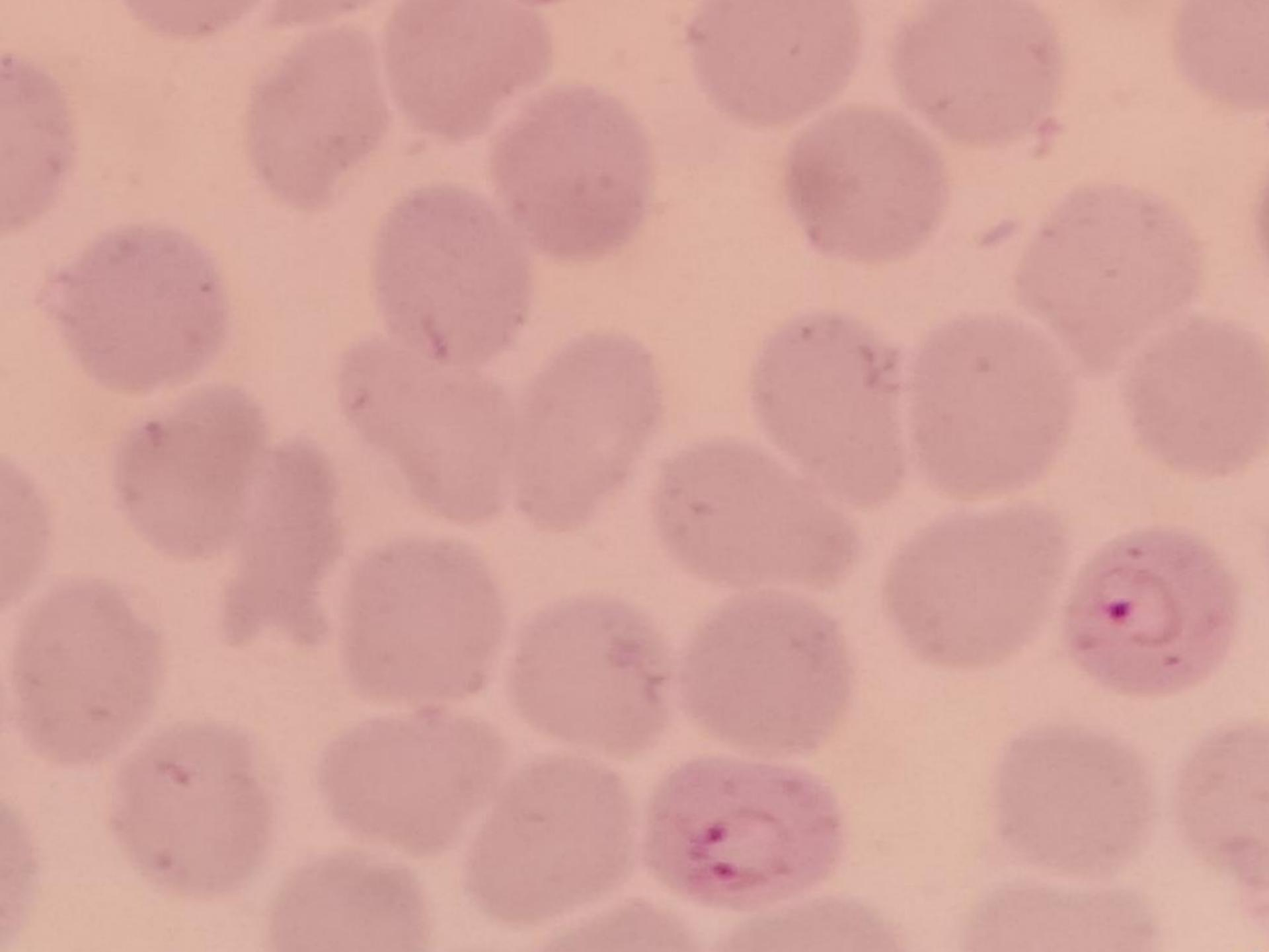Infected: (644, 755, 839, 909), (1064, 527, 1236, 697)
Uninfected: (1015, 184, 1198, 373), (330, 332, 505, 524), (750, 308, 912, 511), (648, 438, 857, 594), (886, 497, 1068, 672), (909, 311, 1079, 497), (0, 570, 157, 763), (466, 752, 637, 921), (517, 336, 660, 538), (681, 585, 850, 755), (509, 590, 678, 760), (342, 531, 505, 707), (55, 227, 227, 388), (370, 182, 525, 359), (321, 704, 505, 853), (112, 387, 270, 557), (106, 727, 266, 894), (496, 83, 648, 257), (783, 101, 946, 262), (1117, 314, 1269, 476), (383, 0, 555, 142), (248, 27, 389, 200), (998, 724, 1155, 875), (896, 0, 1063, 141), (691, 0, 865, 125)
